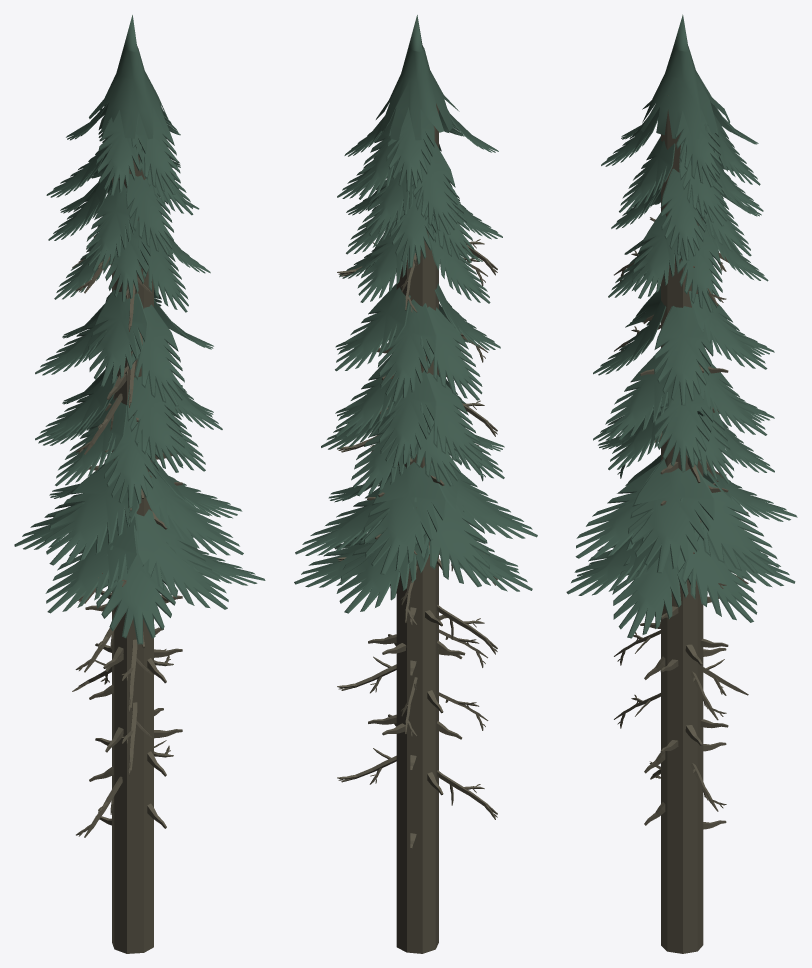
Rendered from Large_PineTree.fbx.
The picture shows the model from 3 angles, left to right: view 1: azimuth 30°, elevation 25°; view 2: azimuth 150°, elevation 25°; view 3: azimuth 270°, elevation 25°; orthographic projection.
Visible parts, largest first — view 1: polySurface1628, polySurface1662; view 2: polySurface1628, polySurface1662; view 3: polySurface1628, polySurface1662.
Part boxes in pixels (x1,y1,x2,y2): polySurface1628: [14, 15, 265, 644]; polySurface1662: [72, 91, 182, 953]; polySurface1628: [294, 15, 537, 613]; polySurface1662: [337, 103, 497, 953]; polySurface1628: [566, 14, 797, 638]; polySurface1662: [614, 95, 748, 953].
Size of the model in its own units: 28.3 by 121 by 27.27.
